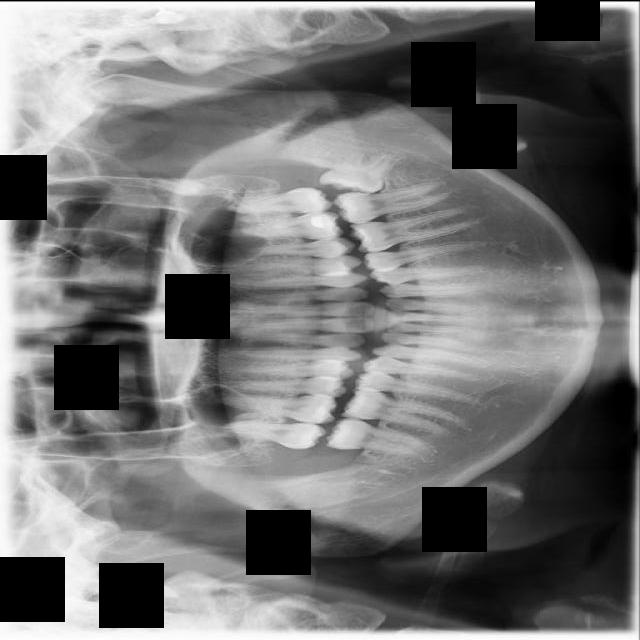52: (297, 205, 343, 245)
73: (584, 25, 594, 33)
BioHorizons Implant: (227, 186, 332, 215)
Biomet 3i Implant: (318, 142, 400, 198)
Blue Sky Bio Implant: (331, 181, 449, 225)
Caries: (224, 421, 325, 449)
Implant: (324, 414, 436, 460)
